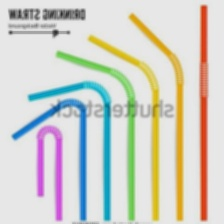drinking_straw: (84, 31, 162, 224), (125, 9, 187, 222), (195, 3, 213, 222), (32, 121, 65, 222)
